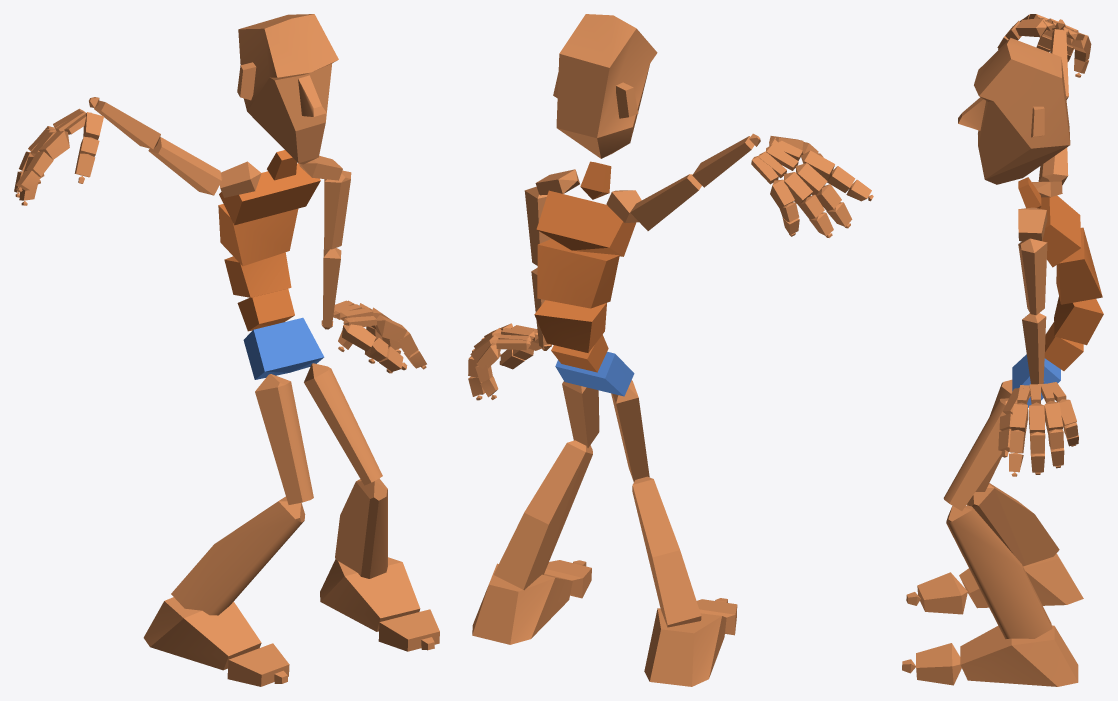
3 views of the same model, side by side, from view 1: azimuth 30°, elevation 25°; view 2: azimuth 150°, elevation 25°; view 3: azimuth 270°, elevation 25° (orthographic). The views are drawn at different scales.
Visible parts, largest first — view 1: BOPED_Head, BOPED_R_leg, BOPED_R_foot, BOPED_R_foot01, BOPED_L_leg, BOPED_R_legup, BOPED_L_legup, Bone01, Bone04, Bone05, Bone03, BOPED_R_arm_upper (+9 smaller); view 2: BOPED_Head, BOPED_L_leg, BOPED_R_leg, BOPED_R_foot01, BOPED_R_foot, Bone04, Bone05, Bone03, BOPED_R_legup, Bone01, BOPED_L_legup, BOPED_R_arm_upper (+8 smaller); view 3: BOPED_Head, BOPED_L_leg, BOPED_R_foot01, BOPED_R_leg, BOPED_L_legup, BOPED_R_foot, Bone05, Bone04, Bone03, BOPED_L_arm_upper, BOPED_R_foot_toe01, BOPED_R_foot_toe04 (+16 smaller).
Boxes of the visible parts, x1,y1,x2,y2 form: BOPED_Head: (237, 14, 338, 164); BOPED_R_leg: (171, 496, 305, 615); BOPED_R_foot: (143, 597, 261, 670); BOPED_R_foot01: (320, 557, 420, 631); BOPED_L_leg: (335, 478, 387, 578); BOPED_R_legup: (255, 374, 313, 504); BOPED_L_legup: (304, 363, 382, 485); Bone01: (243, 317, 324, 379); Bone04: (218, 204, 298, 266); Bone05: (219, 163, 320, 225); Bone03: (224, 252, 291, 297); BOPED_R_arm_upper: (148, 137, 222, 195); BOPED_Head: (553, 14, 657, 158); BOPED_L_leg: (493, 440, 592, 590); BOPED_R_leg: (632, 476, 701, 627); BOPED_R_foot01: (472, 563, 572, 644); BOPED_R_foot: (644, 608, 726, 686); Bone04: (537, 239, 619, 308); Bone05: (536, 190, 636, 256); Bone03: (534, 300, 606, 352); BOPED_R_legup: (611, 380, 649, 481); Bone01: (555, 352, 634, 396); BOPED_L_legup: (562, 381, 599, 447); BOPED_R_arm_upper: (630, 174, 701, 230); BOPED_Head: (958, 38, 1070, 184); BOPED_L_leg: (946, 505, 1052, 639); BOPED_R_foot01: (960, 625, 1078, 686); BOPED_R_leg: (966, 483, 1059, 566); BOPED_L_legup: (943, 398, 1008, 510); BOPED_R_foot: (959, 553, 1083, 608); Bone05: (1040, 195, 1081, 267); Bone04: (1056, 227, 1102, 304); Bone03: (1054, 296, 1103, 345); BOPED_L_arm_upper: (1018, 238, 1047, 315); BOPED_R_foot_toe01: (917, 572, 967, 614); BOPED_R_foot_toe04: (916, 643, 961, 685).
Size of the model in its own units: 125 by 182 by 56.5.
